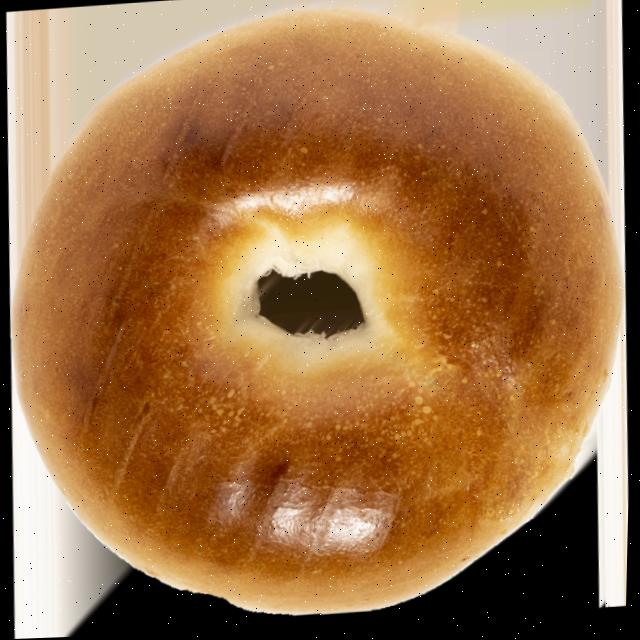Bagel: (14, 11, 622, 614)
